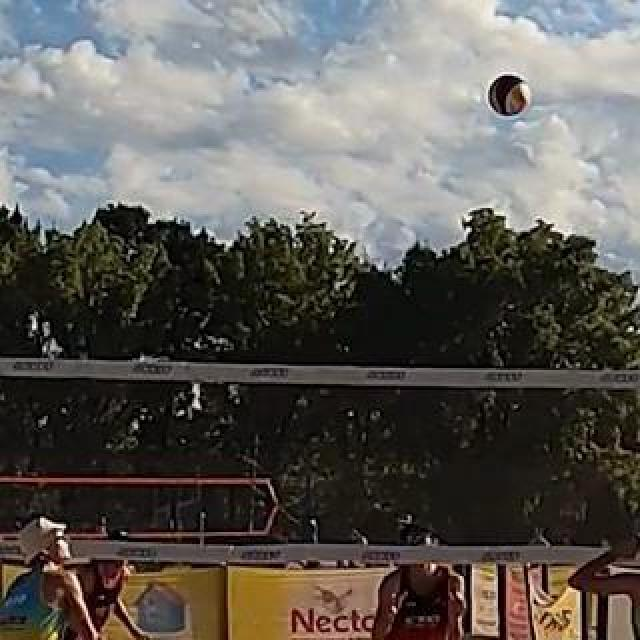volleyball: (488, 75, 532, 117)
